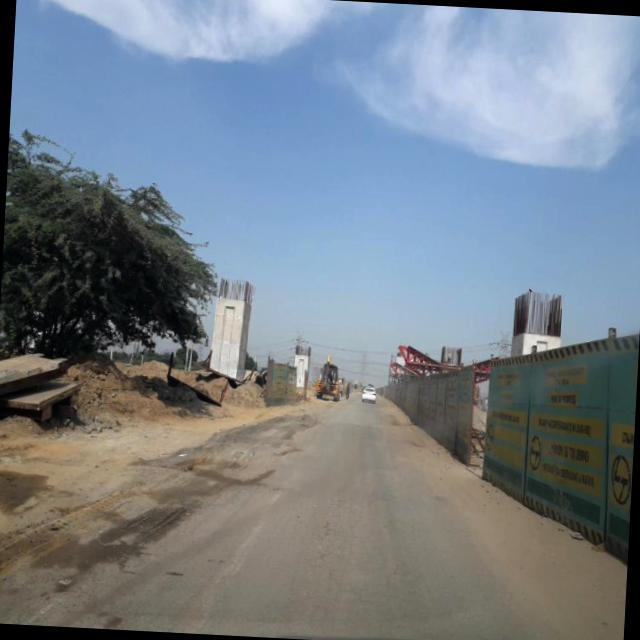crack: (129, 498, 192, 546)
